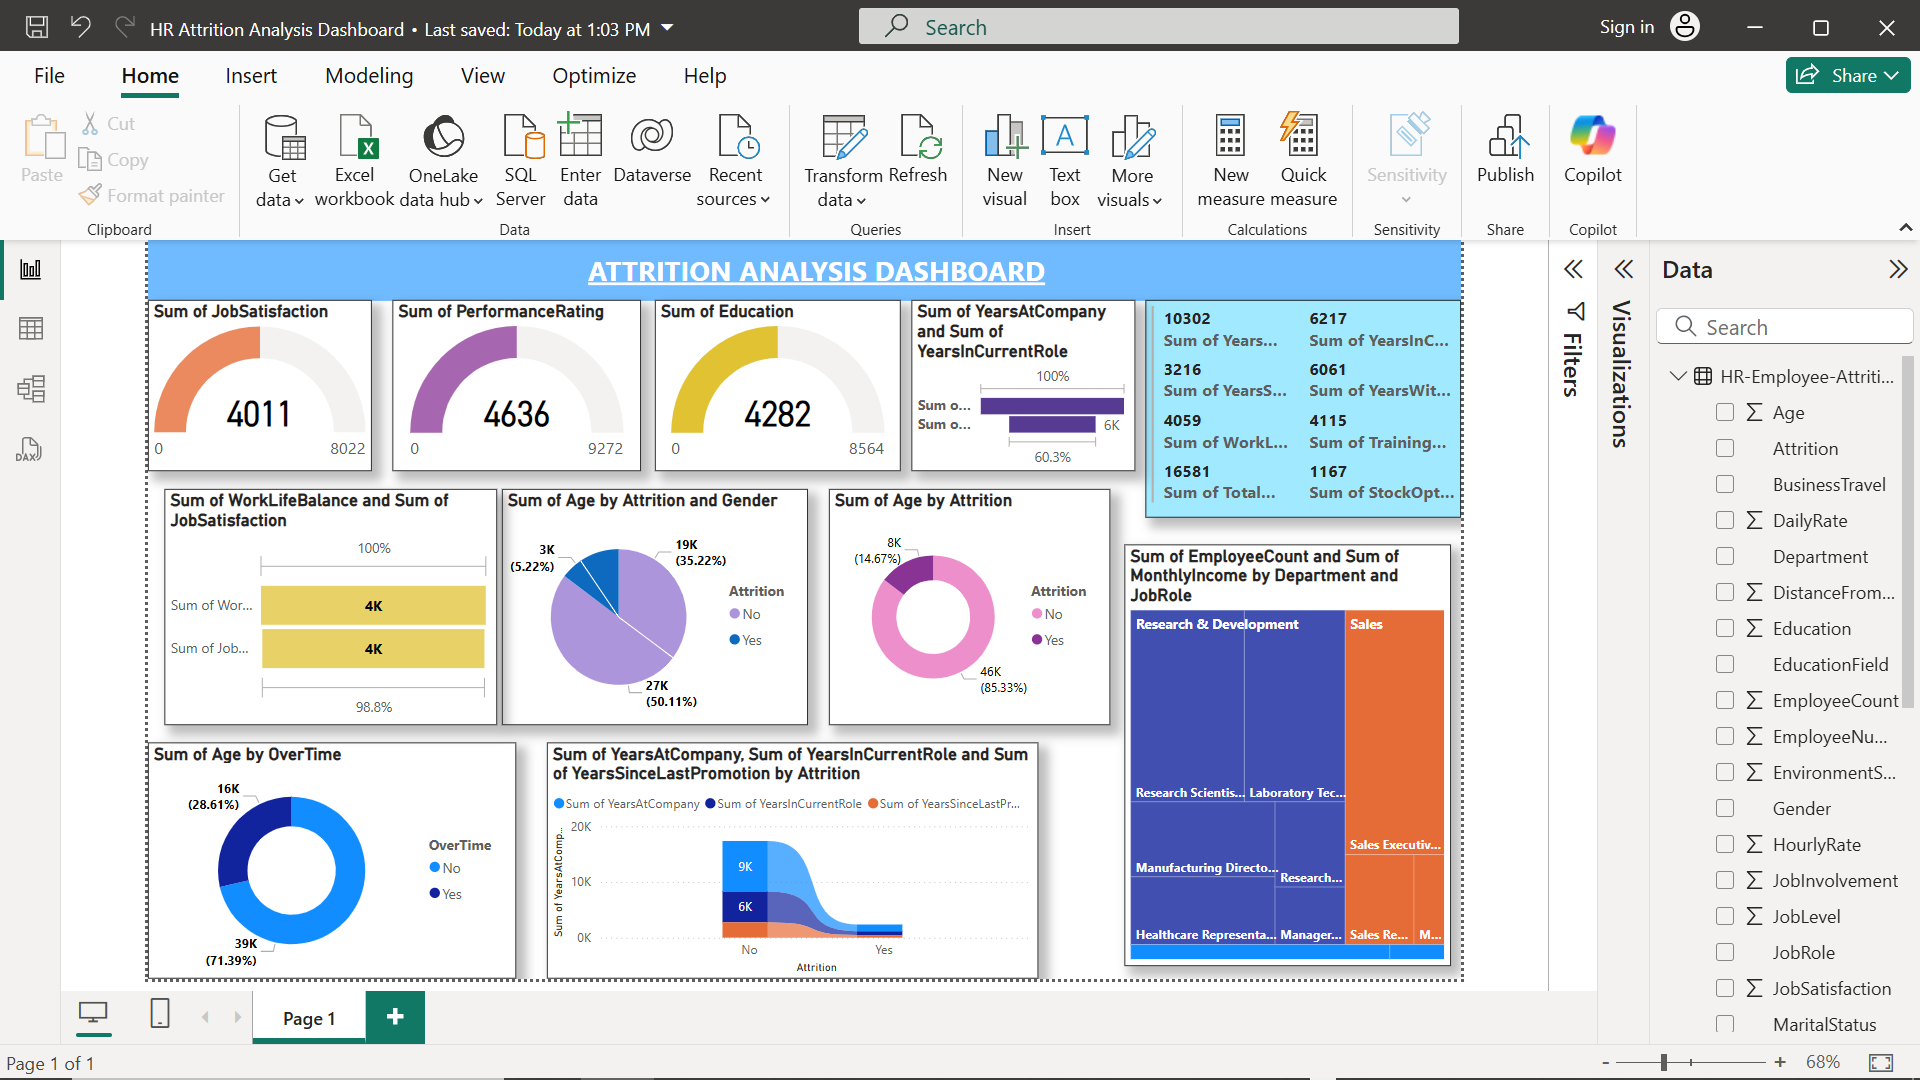

What the dashboard file says about the page in this screenshot:
{"tool":"powerbi","page":{"name":"Page 1","canvas":[1280,720],"ordinal":0},"visuals":[{"type":"textbox","box":[0,0,1279.5,59.1],"z":0},{"type":"gauge","fields":{"Y":["Sum(HR-Employee-Attrition.JobSatisfaction)"]},"box":[0,59.1,218,166.6],"z":1000},{"type":"gauge","fields":{"Y":["Sum(HR-Employee-Attrition.PerformanceRating)"]},"box":[237.7,59.1,242.3,166.6],"z":2000},{"type":"gauge","fields":{"Y":["Sum(HR-Employee-Attrition.Education)"]},"box":[493.6,59.1,239.2,166.6],"z":3000},{"type":"multiRowCard","fields":{"Values":["Sum(HR-Employee-Attrition.YearsAtCompany)","Sum(HR-Employee-Attrition.YearsInCurrentRole)","Sum(HR-Employee-Attrition.YearsSinceLastPromotion)","Sum(HR-Employee-Attrition.YearsWithCurrManager)","Sum(HR-Employee-Attrition.WorkLifeBalance)","Sum(HR-Employee-Attrition.TrainingTimesLastYear)","Sum(HR-Employee-Attrition.TotalWorkingYears)","Sum(HR-Employee-Attrition.StockOptionLevel)"]},"box":[972.1,59.1,307.4,212],"z":4000},{"type":"funnel","fields":{"Y":["Sum(HR-Employee-Attrition.YearsAtCompany)","Sum(HR-Employee-Attrition.YearsInCurrentRole)"]},"box":[743.5,59.1,218,166.6],"z":5000},{"type":"donutChart","fields":{"Y":["Sum(HR-Employee-Attrition.Age)"],"Category":["HR-Employee-Attrition.Attrition"]},"box":[663.2,242.3,274.1,230.2],"z":6000},{"type":"ribbonChart","fields":{"Y":["Sum(HR-Employee-Attrition.YearsAtCompany)","Sum(HR-Employee-Attrition.YearsInCurrentRole)","Sum(HR-Employee-Attrition.YearsSinceLastPromotion)"],"Category":["HR-Employee-Attrition.Attrition"]},"box":[389.2,489.1,478.5,230.2],"z":7000},{"type":"pieChart","fields":{"Category":["HR-Employee-Attrition.Attrition"],"Y":["Sum(HR-Employee-Attrition.Age)"],"Series":["HR-Employee-Attrition.Gender"]},"box":[345.2,242.3,298.3,230.2],"z":8000},{"type":"donutChart","fields":{"Category":["HR-Employee-Attrition.OverTime"],"Y":["Sum(HR-Employee-Attrition.Age)"]},"box":[0,489.1,358.9,230.2],"z":8001},{"type":"funnel","fields":{"Y":["Sum(HR-Employee-Attrition.WorkLifeBalance)","Sum(HR-Employee-Attrition.JobSatisfaction)"]},"box":[16.7,242.3,324,230.2],"z":8002},{"type":"treemap","fields":{"Group":["HR-Employee-Attrition.Department","HR-Employee-Attrition.EducationField","HR-Employee-Attrition.Attrition"],"Details":["HR-Employee-Attrition.JobRole"],"Values":["Sum(HR-Employee-Attrition.EmployeeCount)"]},"box":[950.9,296.8,318,410.3],"z":8003}]}

Visuals, with their boxes on the page's 1280x720 design canvas (x1, y1, x2, y2). These are canvas units, not pixel positions in the 1920x1080 screenshot, which may show the page scaled, cropped or inside an application window:
textbox: [x1=0, y1=0, x2=1280, y2=59]
gauge - Sum(HR-Employee-Attrition.JobSatisfaction): [x1=0, y1=59, x2=218, y2=226]
gauge - Sum(HR-Employee-Attrition.PerformanceRating): [x1=238, y1=59, x2=480, y2=226]
gauge - Sum(HR-Employee-Attrition.Education): [x1=494, y1=59, x2=733, y2=226]
multiRowCard - Sum(HR-Employee-Attrition.YearsAtCompany) x Sum(HR-Employee-Attrition.YearsInCurrentRole): [x1=972, y1=59, x2=1280, y2=271]
funnel - Sum(HR-Employee-Attrition.YearsAtCompany) x Sum(HR-Employee-Attrition.YearsInCurrentRole): [x1=744, y1=59, x2=962, y2=226]
donutChart - Sum(HR-Employee-Attrition.Age) x HR-Employee-Attrition.Attrition: [x1=663, y1=242, x2=937, y2=472]
ribbonChart - Sum(HR-Employee-Attrition.YearsAtCompany) x Sum(HR-Employee-Attrition.YearsInCurrentRole): [x1=389, y1=489, x2=868, y2=719]
pieChart - HR-Employee-Attrition.Attrition x Sum(HR-Employee-Attrition.Age): [x1=345, y1=242, x2=644, y2=472]
donutChart - HR-Employee-Attrition.OverTime x Sum(HR-Employee-Attrition.Age): [x1=0, y1=489, x2=359, y2=719]
funnel - Sum(HR-Employee-Attrition.WorkLifeBalance) x Sum(HR-Employee-Attrition.JobSatisfaction): [x1=17, y1=242, x2=341, y2=472]
treemap - HR-Employee-Attrition.Department x HR-Employee-Attrition.EducationField: [x1=951, y1=297, x2=1269, y2=707]
